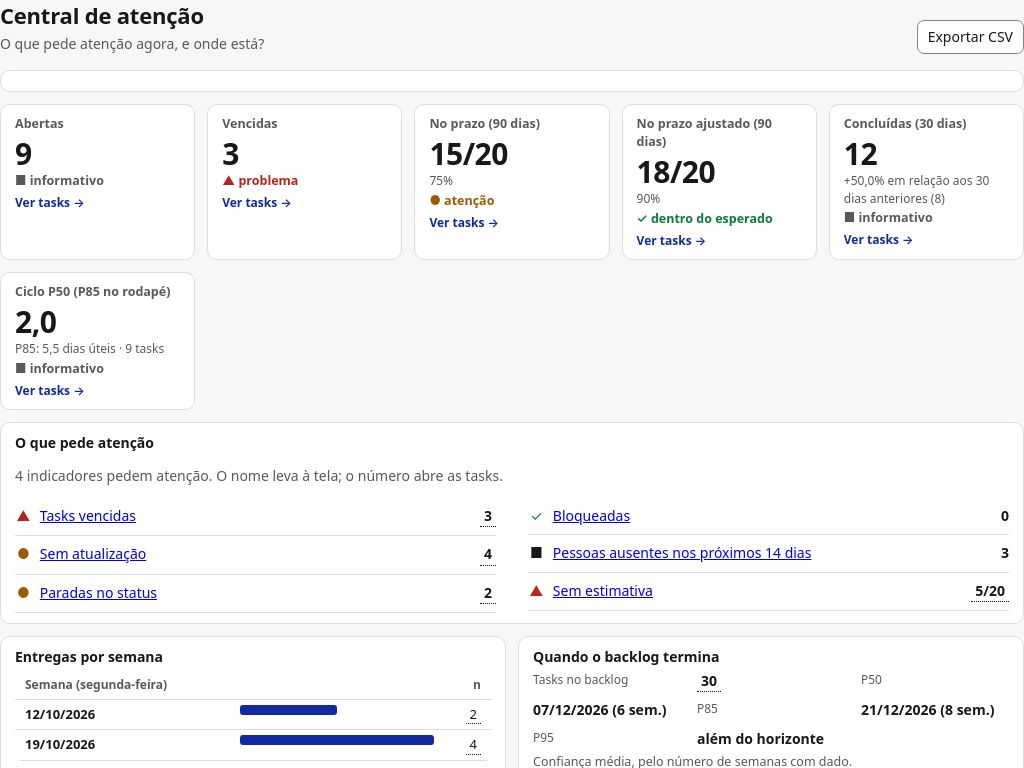
Test: tela Central de atenção › concluidas30dMostraVariacaoEAbreAGaveta
The image size is (1024, 768).
Click the button named "Concluídas (30 dias)" at (926, 193), box [844,137,1009,249]
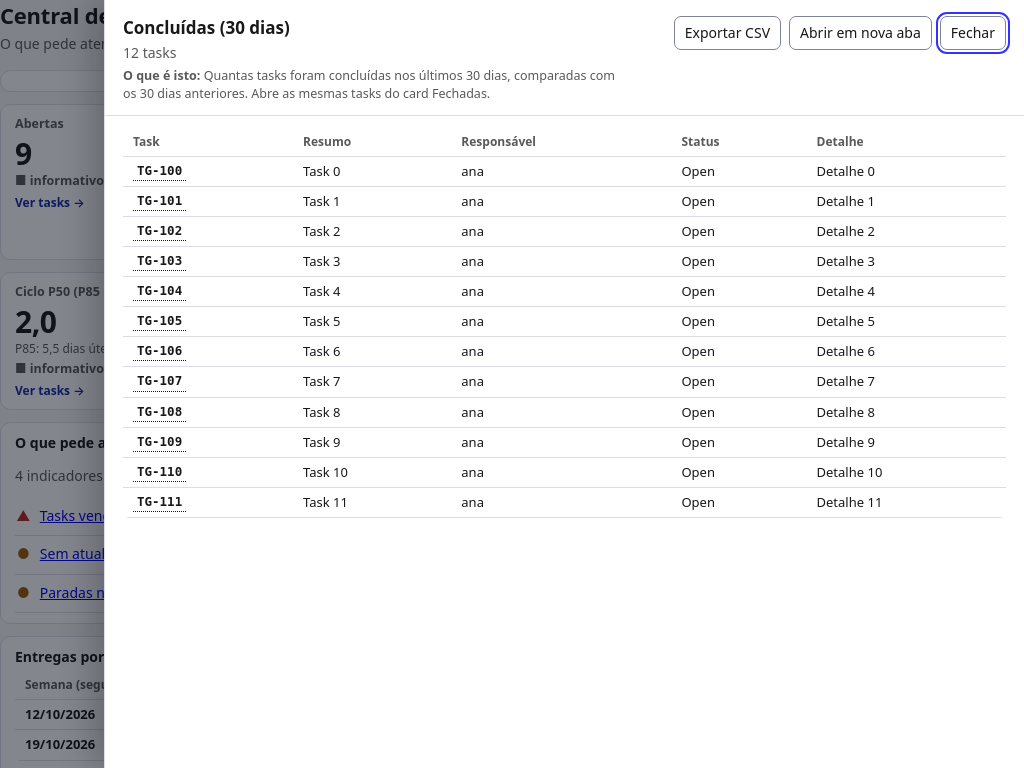
Now the dialog is shown
